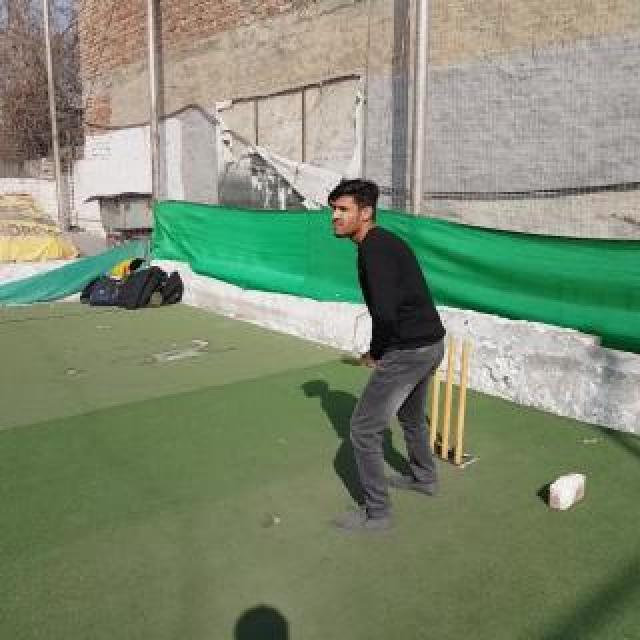bat: (341, 352, 373, 366)
